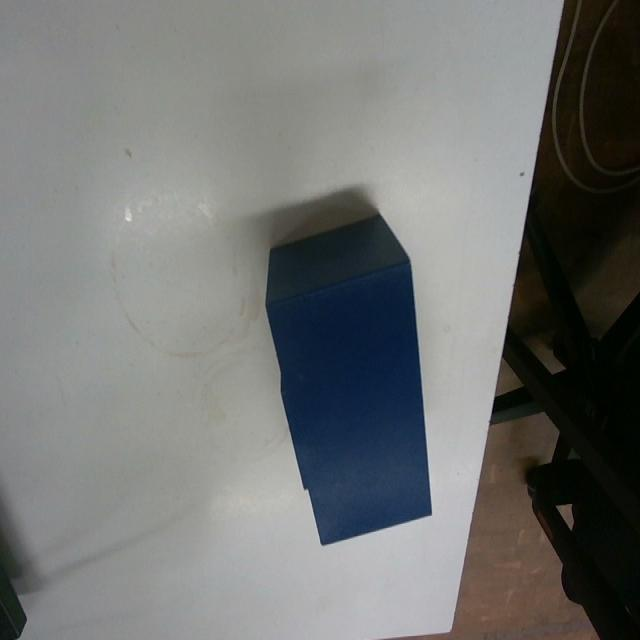Blue Cuboid: (262, 208, 434, 547)
